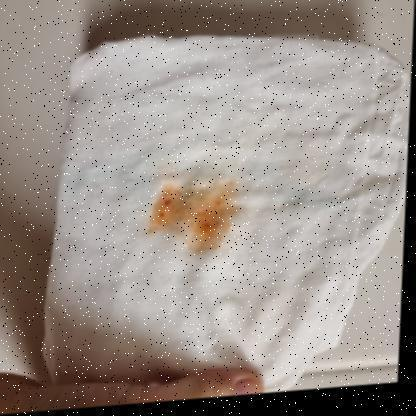kimchi: (148, 174, 237, 258)
